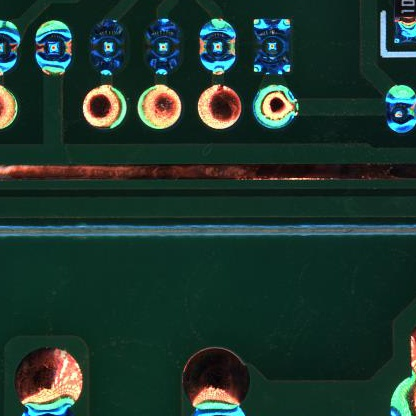spot: (251, 17, 292, 77), (87, 19, 129, 76), (35, 19, 75, 76), (145, 19, 183, 78), (198, 20, 239, 73), (382, 84, 416, 136), (1, 19, 23, 77)
